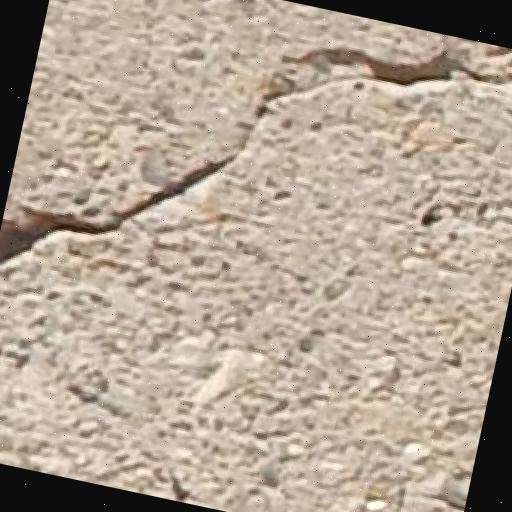spalling: (6, 33, 512, 285)
